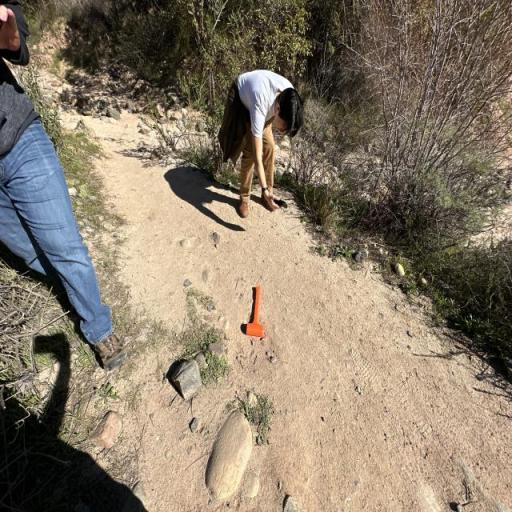mallet: (246, 286, 263, 337)
